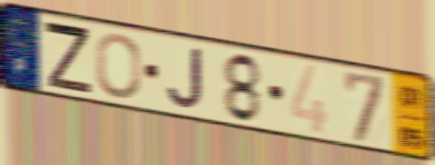4: (288, 62, 332, 138)
7: (341, 67, 387, 146)
8: (220, 49, 262, 126)
J: (164, 44, 206, 112)
O: (94, 32, 143, 101)
Z: (41, 18, 95, 97)
